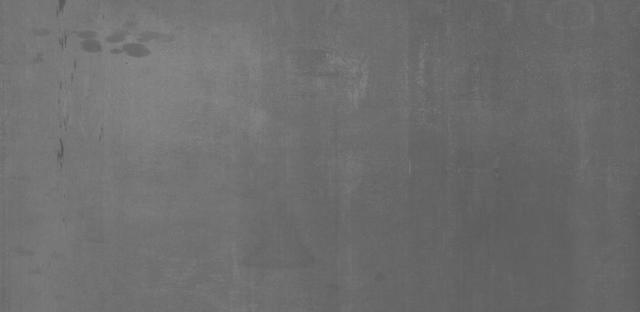water_spot: (54, 17, 181, 75)
